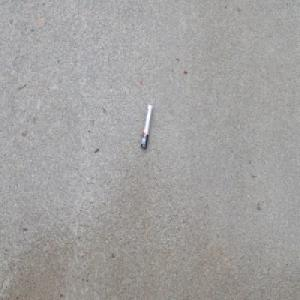Battery: (139, 103, 153, 151)
